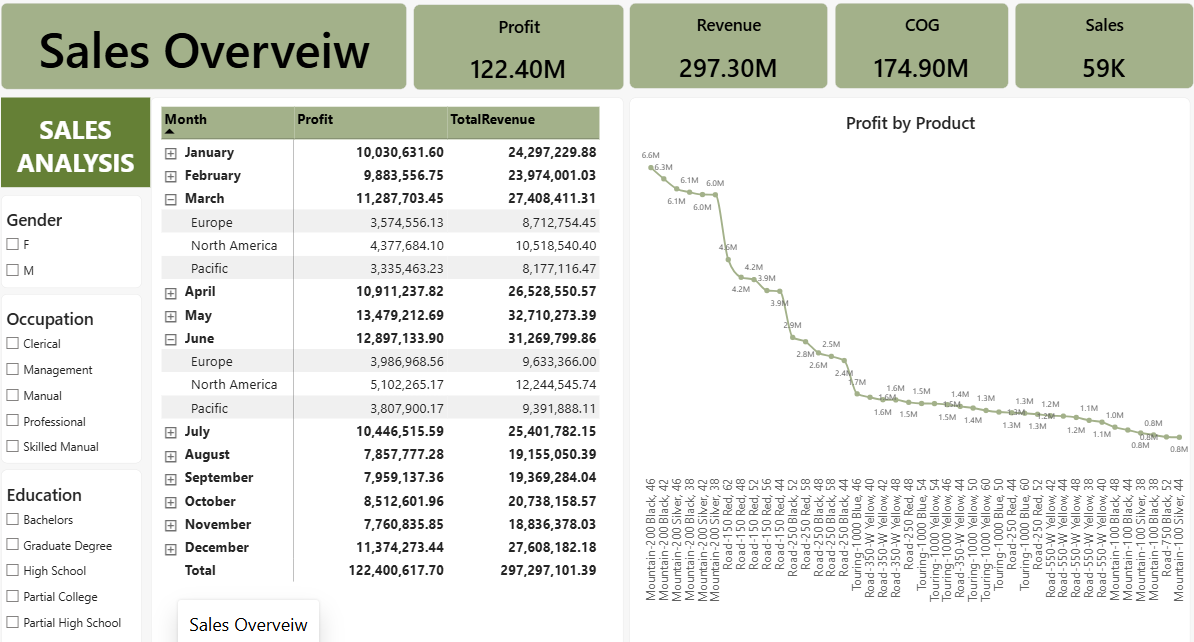

Layout of this report page (visuals, bound fields, positions):
{"tool":"powerbi","page":{"name":"Sales Overveiw","canvas":[1920,1080],"ordinal":0},"visuals":[{"type":"cardVisual","title":"Profit","fields":{"Data":["SalesTable.Profit"]},"box":[665.4,25.5,334.5,136.1],"z":0},{"type":"cardVisual","title":"Revenue","fields":{"Data":["SalesTable.TotalRevenue"]},"box":[1010.4,25,315,136.2],"z":1000},{"type":"cardVisual","title":"COG","fields":{"Data":["SalesTable.TotalCostOfGoods"]},"box":[1335.8,25,276.2,136.2],"z":2000},{"type":"cardVisual","title":"Sales","fields":{"Data":["SalesTable.Sales","SalesTable.Sales"]},"box":[1622.5,25,283.8,136.2],"z":3000},{"type":"textbox","title":"Sales Overveiw","box":[10,25,645,137.5],"z":4000},{"type":"pivotTable","fields":{"Rows":["SalesTable.DueDate.Variation.Date Hierarchy.Month","Territory.SalesTerritoryGroup"],"Values":["SalesTable.Profit","SalesTable.TotalRevenue"]},"box":[248.1,174.2,751.6,887.6],"z":5000},{"type":"lineChart","title":"Profit by Product","fields":{"Category":["Product.Product"],"Y":["SalesTable.Profit"]},"box":[1009.2,174.2,892.3,887.6],"z":6000},{"type":"slicer","fields":{"Values":["Customer.Gender"]},"box":[9.5,329.3,224.3,147.9],"z":7000},{"type":"slicer","fields":{"Values":["Customer.Occupation"]},"box":[9.5,486.7,224.3,269.6],"z":8000},{"type":"slicer","fields":{"Values":["Customer.Education"]},"box":[9.5,765.9,224.3,295.9],"z":9000},{"type":"actionButton","box":[10,175,237.5,142.5],"z":10001}]}

Visuals, with their boxes on the page's 1920x1080 design canvas (x1, y1, x2, y2). These are canvas units, not pixel positions in the 1194x642 screenshot, which may show the page scaled, cropped or inside an application window:
"Profit" cardVisual: detection(665, 26, 1000, 162)
"Revenue" cardVisual: detection(1010, 25, 1325, 161)
"COG" cardVisual: detection(1336, 25, 1612, 161)
"Sales" cardVisual: detection(1622, 25, 1906, 161)
"Sales Overveiw" textbox: detection(10, 25, 655, 162)
pivotTable - SalesTable.DueDate.Variation.Date Hierarchy.Month x Territory.SalesTerritoryGroup: detection(248, 174, 1000, 1062)
"Profit by Product" lineChart: detection(1009, 174, 1902, 1062)
slicer - Customer.Gender: detection(10, 329, 234, 477)
slicer - Customer.Occupation: detection(10, 487, 234, 756)
slicer - Customer.Education: detection(10, 766, 234, 1062)
actionButton: detection(10, 175, 248, 318)
